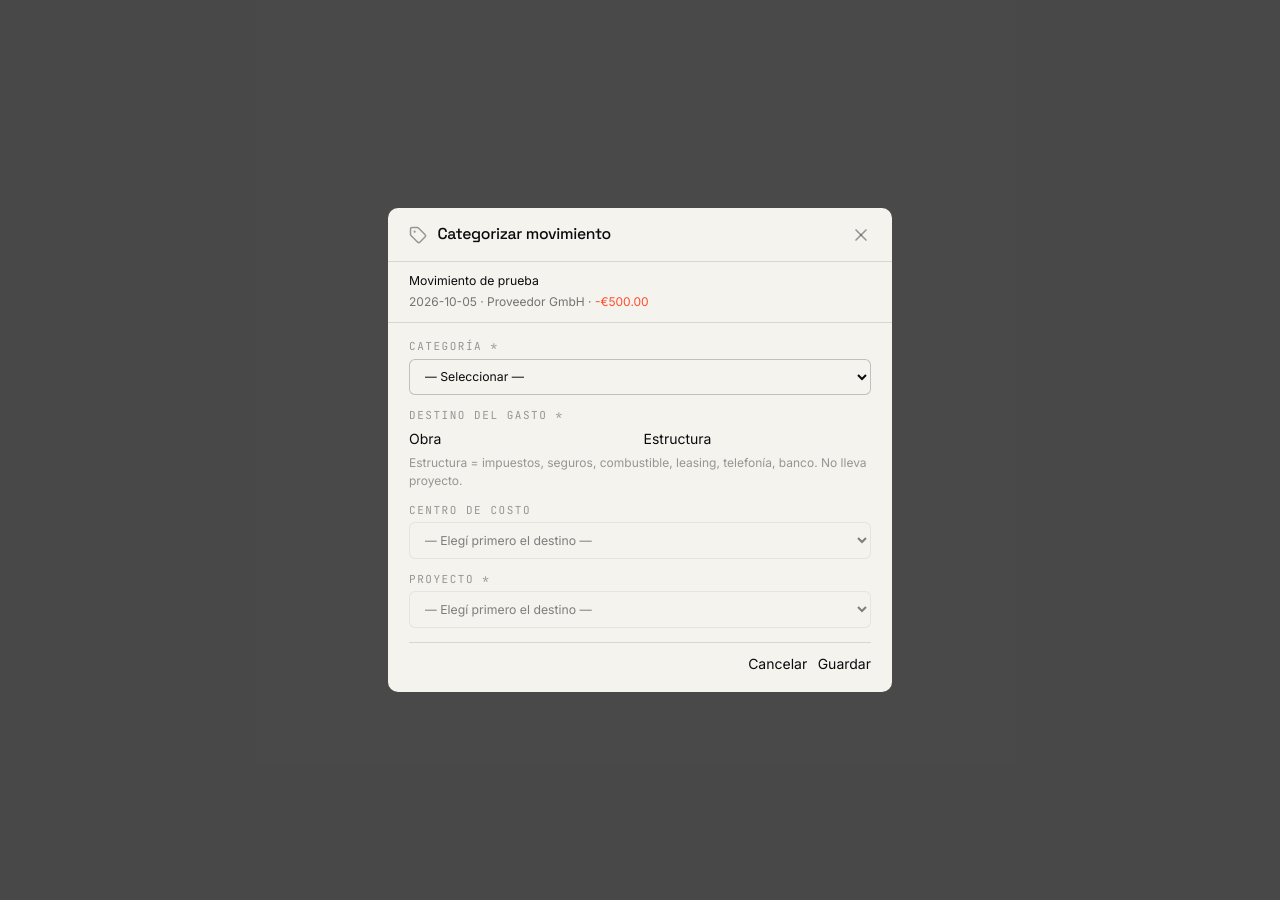
it: CategorizeModal — statement-only hint › shows the statement-only hint for a category that never carries an invoice
Step 1. Select "Salarios" in the dropdown labelled "Categoría *" → (640, 377), box [409, 359, 871, 395]
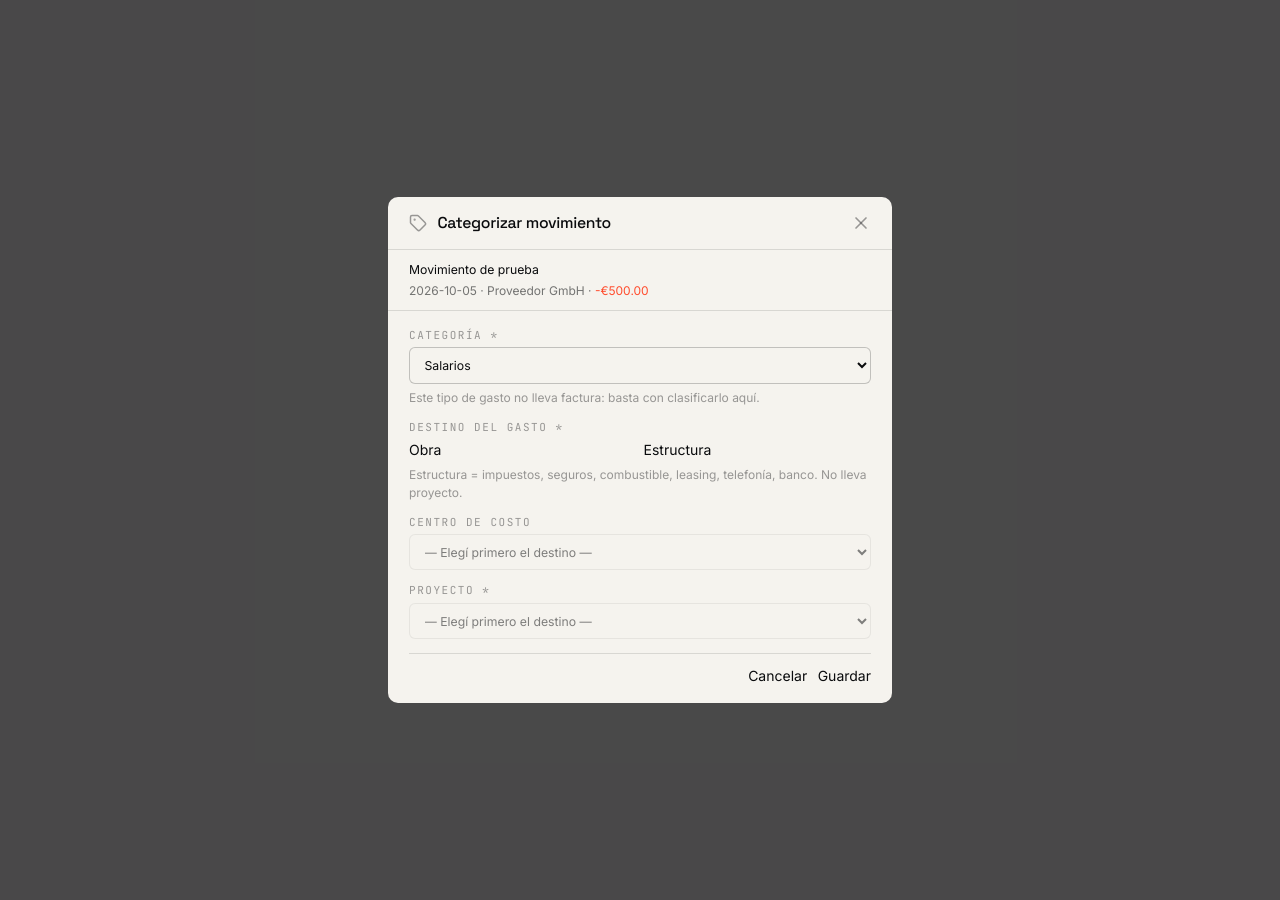
Expected: the text "Este tipo de gasto no lleva factura: basta con clasificarlo aquí." is shown, [409, 390, 760, 405]
